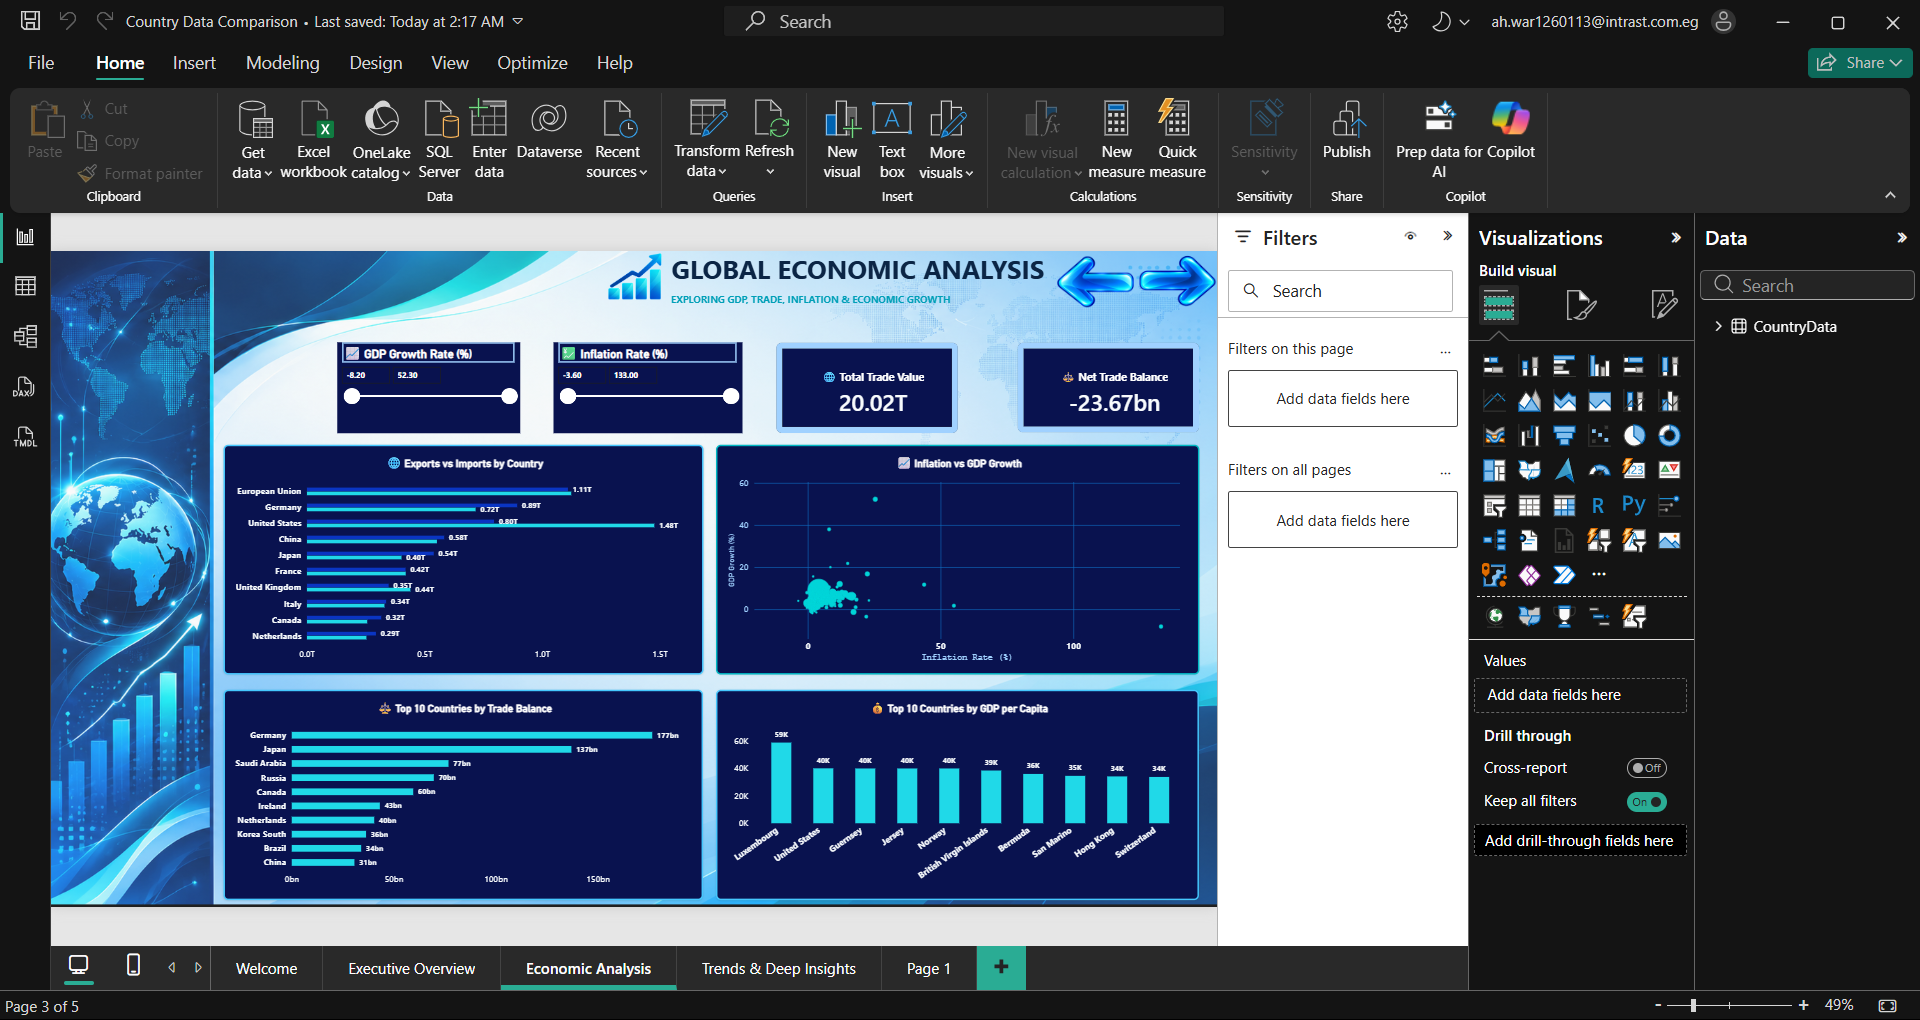

Layout of this report page (visuals, bound fields, positions):
{"tool":"powerbi","page":{"name":"Economic Analysis","canvas":[1920,1080],"ordinal":2},"visuals":[{"type":"textbox","box":[1015.1,0,627.7,84.9],"z":0},{"type":"textbox","box":[857.7,68.4,785.2,33.1],"z":1000},{"type":"image","box":[905.3,0,110.4,82.8],"z":2000},{"type":"clusteredBarChart","title":"🌐 Exports vs Imports by Country","fields":{"Category":["CountryData.Country"],"Y":["Sum(CountryData.Exports)","Sum(CountryData.Imports)"]},"box":[284,320,790,378],"z":3000},{"type":"scatterChart","title":"📈 Inflation vs GDP Growth","fields":{"Category":["CountryData.Country"],"Size":["Sum(CountryData.Population)"],"X":["Sum(CountryData.Inflation rate (consumer prices)(%))"],"Y":["Sum(CountryData.GDP - real growth rate(%))"]},"box":[1096,320,796,378],"z":4000},{"type":"clusteredBarChart","title":"⚖️ Top 10 Countries by Trade Balance","fields":{"Category":["CountryData.Country"],"Y":["CountryData.Trade Balance"]},"box":[283.4,721.5,789.6,346],"z":5000},{"type":"clusteredColumnChart","title":"💰 Top 10 Countries by GDP per Capita","fields":{"Category":["CountryData.Country"],"Y":["Sum(CountryData.GDP - per capita)"]},"box":[1095.1,721.5,795.1,346],"z":6000},{"type":"cardVisual","fields":{"Data":["CountryData.Total Trade"]},"box":[1194.5,150.9,300,150],"z":7000},{"type":"cardVisual","fields":{"Data":["CountryData.Trade Balance"]},"box":[1590.2,150.9,300,149.1],"z":8000},{"type":"slicer","fields":{"Values":["CountryData.Inflation rate (consumer prices)(%)"]},"box":[826.6,151.2,309.2,149.1],"z":9000},{"type":"slicer","fields":{"Values":["CountryData.GDP - real growth rate(%)"]},"box":[472.3,151.2,300,149.1],"z":10000},{"type":"image","box":[1653.2,0,134.7,99.4],"z":11000},{"type":"image","box":[1787.8,0,132.6,99.4],"z":12000}]}

Visuals, with their boxes on the page's 1920x1080 design canvas (x1, y1, x2, y2). These are canvas units, not pixel positions in the 1920x1020 screenshot, which may show the page scaled, cropped or inside an application window:
textbox: Rect(1015, 0, 1643, 85)
textbox: Rect(858, 68, 1643, 102)
image: Rect(905, 0, 1016, 83)
"🌐 Exports vs Imports by Country" clusteredBarChart: Rect(284, 320, 1074, 698)
"📈 Inflation vs GDP Growth" scatterChart: Rect(1096, 320, 1892, 698)
"⚖️ Top 10 Countries by Trade Balance" clusteredBarChart: Rect(283, 722, 1073, 1068)
"💰 Top 10 Countries by GDP per Capita" clusteredColumnChart: Rect(1095, 722, 1890, 1068)
cardVisual - CountryData.Total Trade: Rect(1194, 151, 1494, 301)
cardVisual - CountryData.Trade Balance: Rect(1590, 151, 1890, 300)
slicer - CountryData.Inflation rate (consumer prices)(%): Rect(827, 151, 1136, 300)
slicer - CountryData.GDP - real growth rate(%): Rect(472, 151, 772, 300)
image: Rect(1653, 0, 1788, 99)
image: Rect(1788, 0, 1920, 99)
